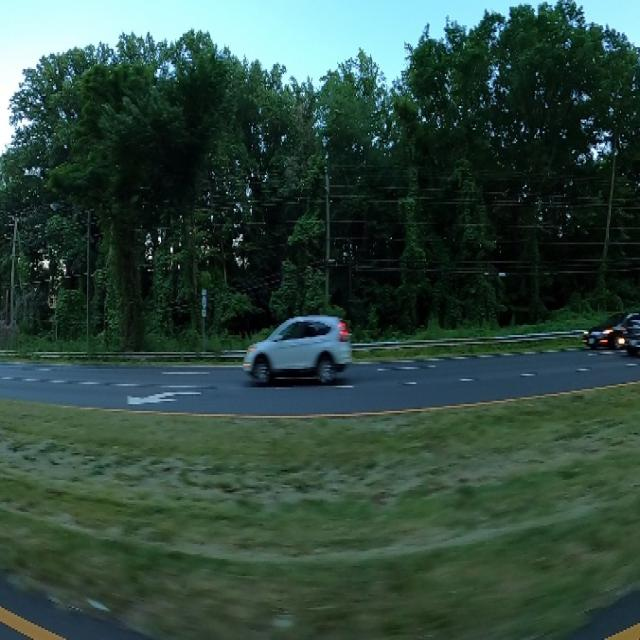car: (241, 305, 356, 397), (584, 307, 640, 351)
